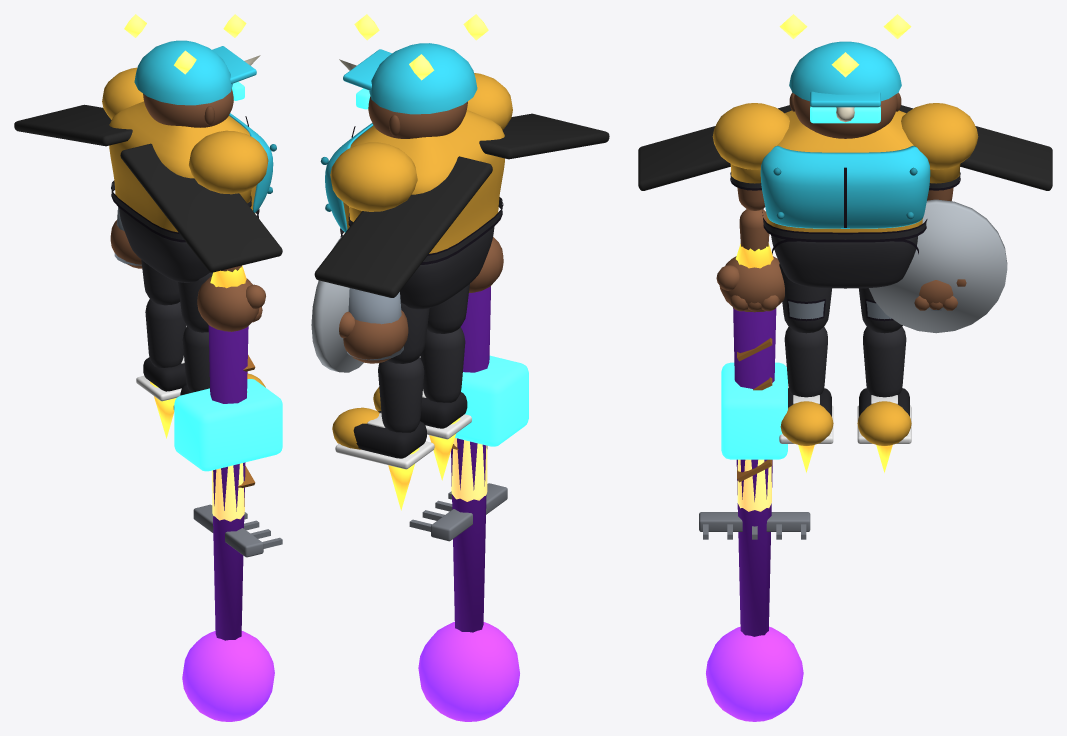
The model's file is ferrum.glb.
The picture shows the model from 3 angles, left to right: view 1: azimuth 30°, elevation 25°; view 2: azimuth 150°, elevation 25°; view 3: azimuth 270°, elevation 25°; orthographic projection. The views are drawn at different scales.
Visible parts, largest first — view 1: wing0, hammerHead, shadowFist, shadowArm, torso, capDome, pad0, wing1, pelvis, palm, calf.001, skull (+14 smaller); view 2: wing1, shadowFist, torso, shadowArm, capDome, hammerHead, pad1, wing0, pelvis, calf.001, prop:lid, calf (+19 smaller); view 3: armor, prop:lid, shadowFist, shadowArm, pelvis, hammerHead, capDome, wing0, wing1, pad0, pad1, torso (+15 smaller).
Boxes of the visible parts, bbox=[...] form: wing0: bbox=[120, 143, 282, 272]; hammerHead: bbox=[174, 379, 282, 471]; shadowFist: bbox=[182, 631, 274, 721]; shadowArm: bbox=[208, 325, 248, 640]; torso: bbox=[109, 101, 256, 232]; capDome: bbox=[134, 40, 232, 105]; pad0: bbox=[189, 130, 268, 194]; wing1: bbox=[14, 104, 132, 146]; pelvis: bbox=[119, 208, 209, 282]; palm: bbox=[197, 276, 259, 331]; calf.001: bbox=[145, 299, 186, 367]; skull: bbox=[143, 89, 233, 127]; wing1: bbox=[314, 156, 492, 297]; shadowFist: bbox=[418, 622, 519, 721]; torso: bbox=[343, 110, 504, 253]; shadowArm: bbox=[451, 286, 490, 632]; capDome: bbox=[369, 43, 477, 114]; hammerHead: bbox=[455, 355, 528, 446]; pad1: bbox=[330, 142, 417, 211]; wing0: bbox=[479, 113, 609, 159]; pelvis: bbox=[400, 227, 494, 309]; calf.001: bbox=[378, 357, 424, 432]; prop:lid: bbox=[311, 235, 363, 372]; calf: bbox=[420, 327, 465, 402]; armor: bbox=[760, 145, 930, 228]; prop:lid: bbox=[869, 199, 1007, 333]; shadowFist: bbox=[706, 626, 803, 721]; shadowArm: bbox=[733, 308, 776, 636]; pelvis: bbox=[771, 235, 917, 288]; hammerHead: bbox=[721, 362, 787, 459]; capDome: bbox=[789, 41, 901, 101]; wing0: bbox=[638, 105, 791, 190]; wing1: bbox=[899, 105, 1052, 190]; pad0: bbox=[712, 103, 789, 169]; pad1: bbox=[901, 103, 978, 169]; torso: bbox=[760, 110, 930, 232].
Size of the model in its own units: 0.8115 by 3.43 by 1.86.
